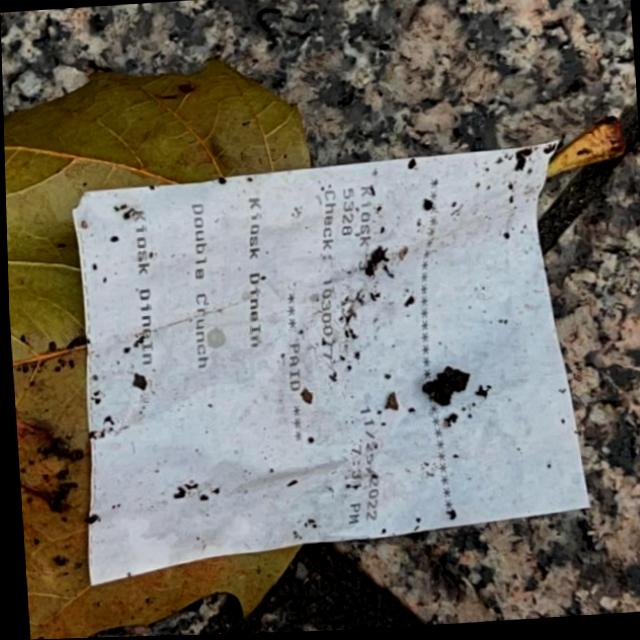Paper: (60, 135, 594, 588)
